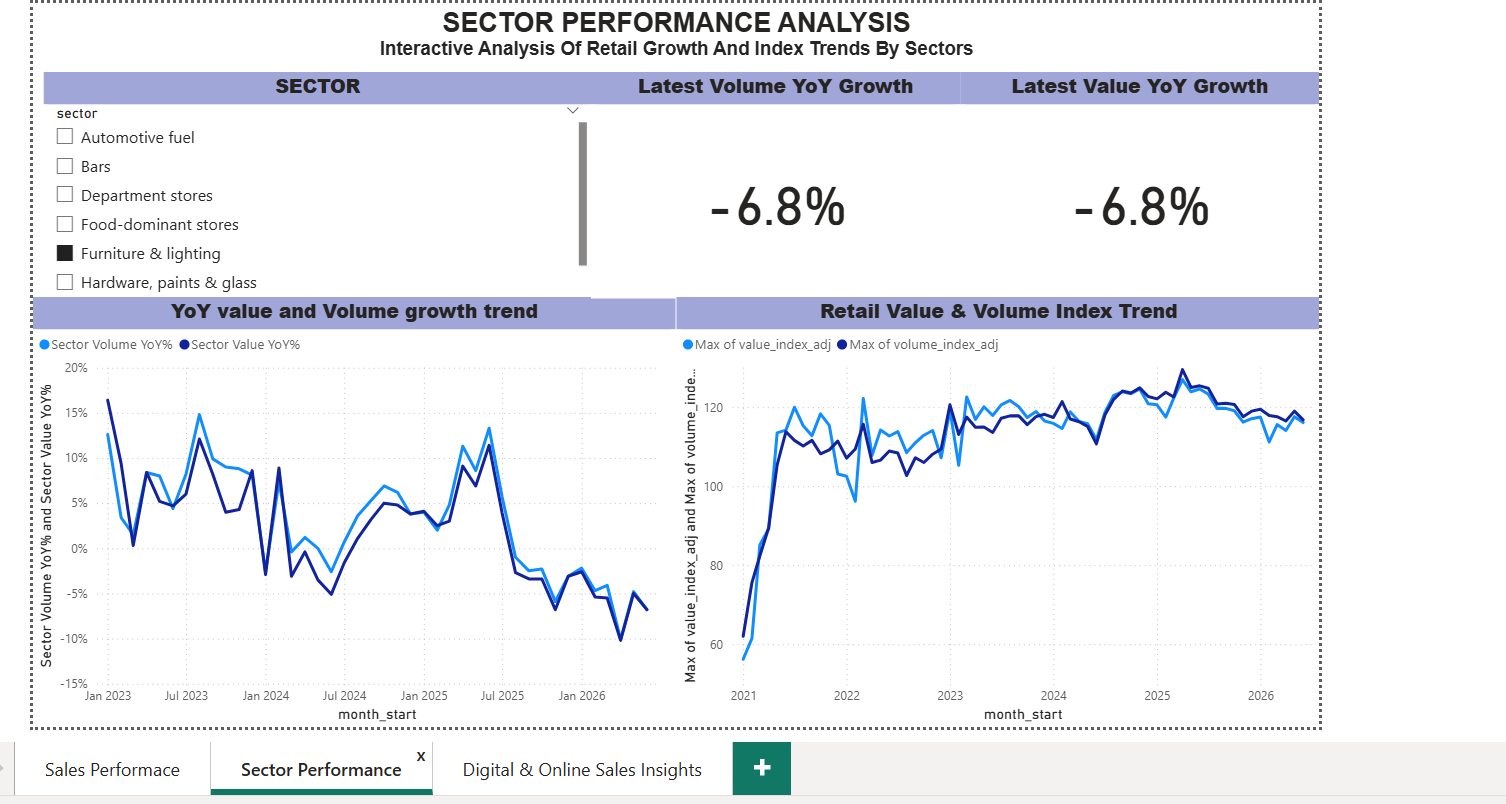

What the dashboard file says about the page in this screenshot:
{"tool":"powerbi","page":{"name":"Sector Performance","canvas":[1280,720],"ordinal":1},"visuals":[{"type":"slicer","title":"SECTOR","fields":{"Values":["vw_dashboard.sector"]},"box":[9.7,68,545.7,225.1],"z":0},{"type":"lineChart","title":"YoY value and Volume growth trend","fields":{"Y":["vw_dashboard.Sector Volume YoY%","vw_dashboard.Sector Value YoY%"],"Category":["vw_dashboard.month_start"]},"box":[0,293.1,639.6,427.5],"z":1000},{"type":"card","title":"Latest Value YoY Growth","fields":{"Values":["vw_dashboard.Selected Sector Latest Value YoY%"]},"box":[923,68,357.8,225.1],"z":2000},{"type":"card","title":"Latest Volume YoY Growth","fields":{"Values":["vw_dashboard.Selected Sector Latest Volume YoY%"]},"box":[555.4,68,367.6,225.1],"z":3000},{"type":"lineChart","title":"Retail Value & Volume Index Trend","fields":{"Category":["vw_dashboard.month_start"],"Y":["Max(vw_dashboard.value_index_adj)","Max(vw_dashboard.volume_index_adj)"]},"box":[639.6,293.1,641.2,427.5],"z":4000},{"type":"textbox","box":[0,0,1280.8,68],"z":4001}]}

Visuals, with their boxes on the page's 1280x720 design canvas (x1, y1, x2, y2). These are canvas units, not pixel positions in the 1506x804 screenshot, which may show the page scaled, cropped or inside an application window:
"SECTOR" slicer: 10/68/555/293
"YoY value and Volume growth trend" lineChart: 0/293/640/721
"Latest Value YoY Growth" card: 923/68/1281/293
"Latest Volume YoY Growth" card: 555/68/923/293
"Retail Value & Volume Index Trend" lineChart: 640/293/1281/721
textbox: 0/0/1281/68
